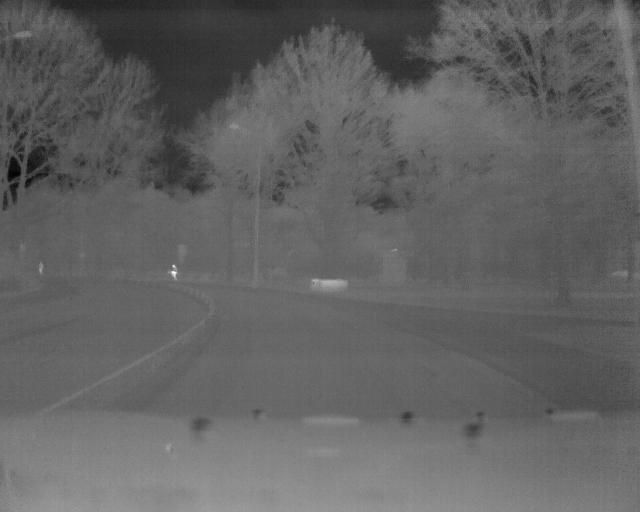person: (167, 259, 179, 285), (35, 257, 48, 279)
